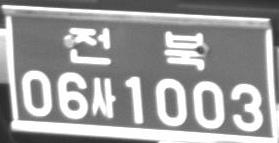0: (154, 77, 188, 127), (192, 79, 225, 130), (20, 69, 53, 118)
1: (121, 75, 150, 124)
3: (230, 81, 264, 133)
6: (56, 71, 89, 119)
사: (89, 76, 116, 119)
전북_D: (68, 26, 205, 71)
